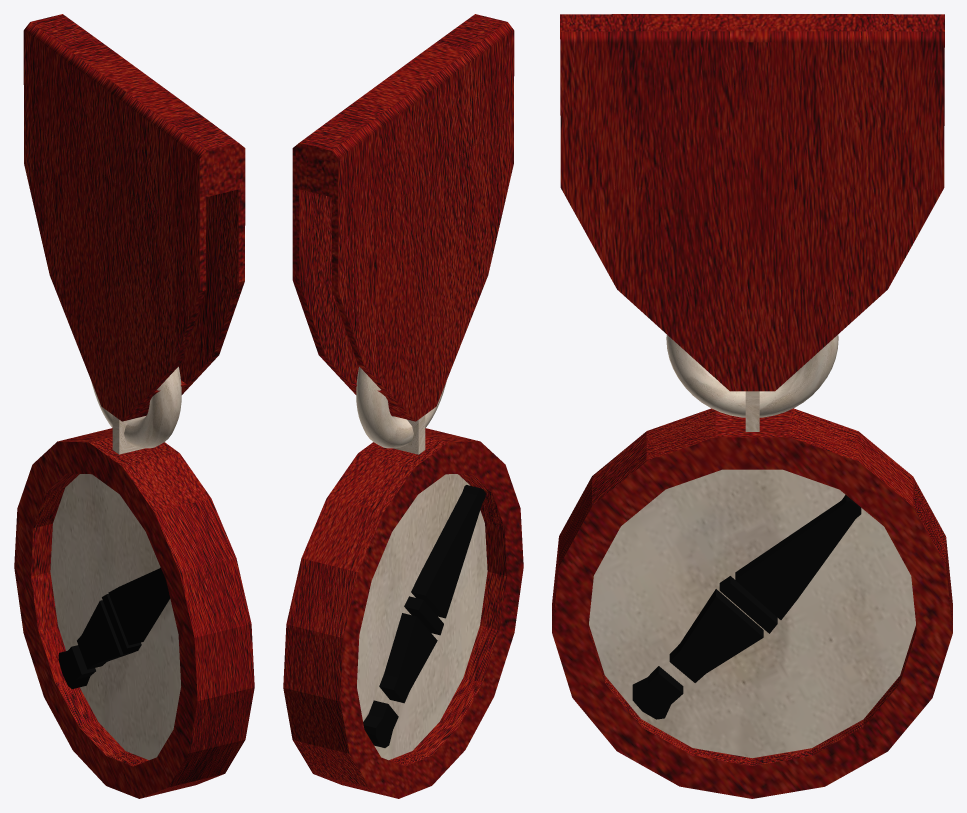
File: Medal.glb
3 renders of one model, left to right at view 1: azimuth 30°, elevation 25°; view 2: azimuth 150°, elevation 25°; view 3: azimuth 270°, elevation 25°, orthographic. The views are drawn at different scales.
Visible parts, largest first — view 1: Ribbon, Planchet, Planchet.002, Suspension Ring, Suspension.002; view 2: Ribbon, Planchet, Planchet.002, Suspension Ring, Suspension.002; view 3: Ribbon, Planchet, Planchet.001, Suspension Ring.
Boxes of the visible parts, x1,y1,x2,y2 form: Ribbon: (23, 14, 245, 421); Planchet: (14, 428, 254, 798); Planchet.002: (58, 567, 170, 689); Suspension Ring: (91, 366, 181, 448); Suspension.002: (112, 415, 145, 454); Ribbon: (292, 14, 514, 421); Planchet: (283, 428, 523, 798); Planchet.002: (363, 485, 485, 747); Suspension Ring: (356, 366, 446, 448); Suspension.002: (392, 415, 425, 454); Ribbon: (560, 14, 944, 391); Planchet: (552, 408, 952, 798); Planchet.001: (632, 494, 861, 719); Suspension Ring: (666, 334, 838, 417).
Size of the model in its own units: 0.2503 by 2.92 by 1.39.
4 materials, 3 textured.
